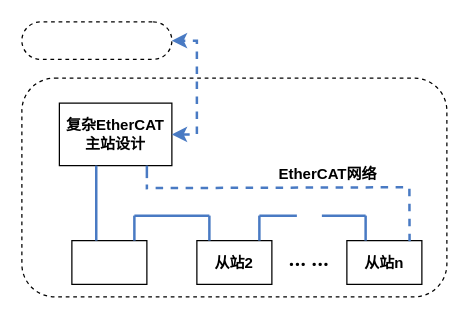
The diagram is 469 pixels wide and 319 high, and some of its shapes have lost their labels. Each missing label, with the centre of its shape:
"从站1" goes at point 109,261.
"外部网络" goes at point 96,40.
